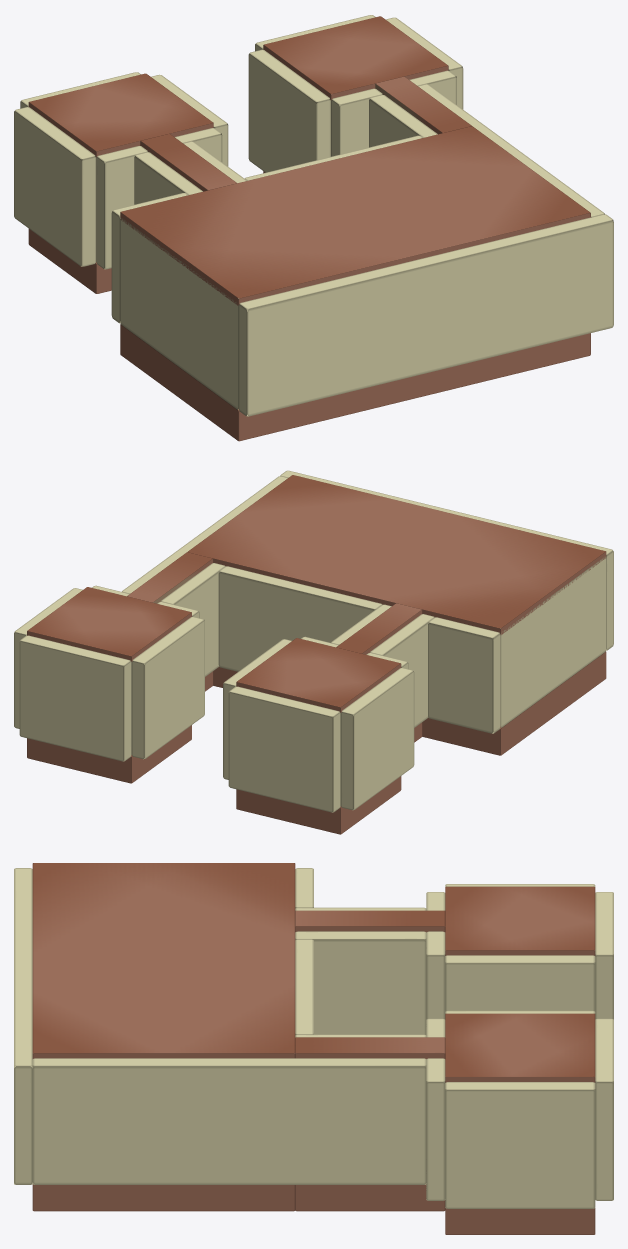
File: Mapa.obj
The picture shows the model from 3 angles, top to bottom: view 1: azimuth 30°, elevation 25°; view 2: azimuth 150°, elevation 25°; view 3: azimuth 270°, elevation 25°; orthographic projection. The views are drawn at different scales.
Parts seen in each view (by area): view 1: mesh; view 2: mesh; view 3: mesh.
Part boxes in pixels (x1,y1,x2,y2): mesh: (14,15,613,441); mesh: (14,470,613,834); mesh: (14,863,613,1234).
Bounding box in the file's own units: 0.875 × 0.2906 × 1.
Materials: 2 (2 with a texture image).
